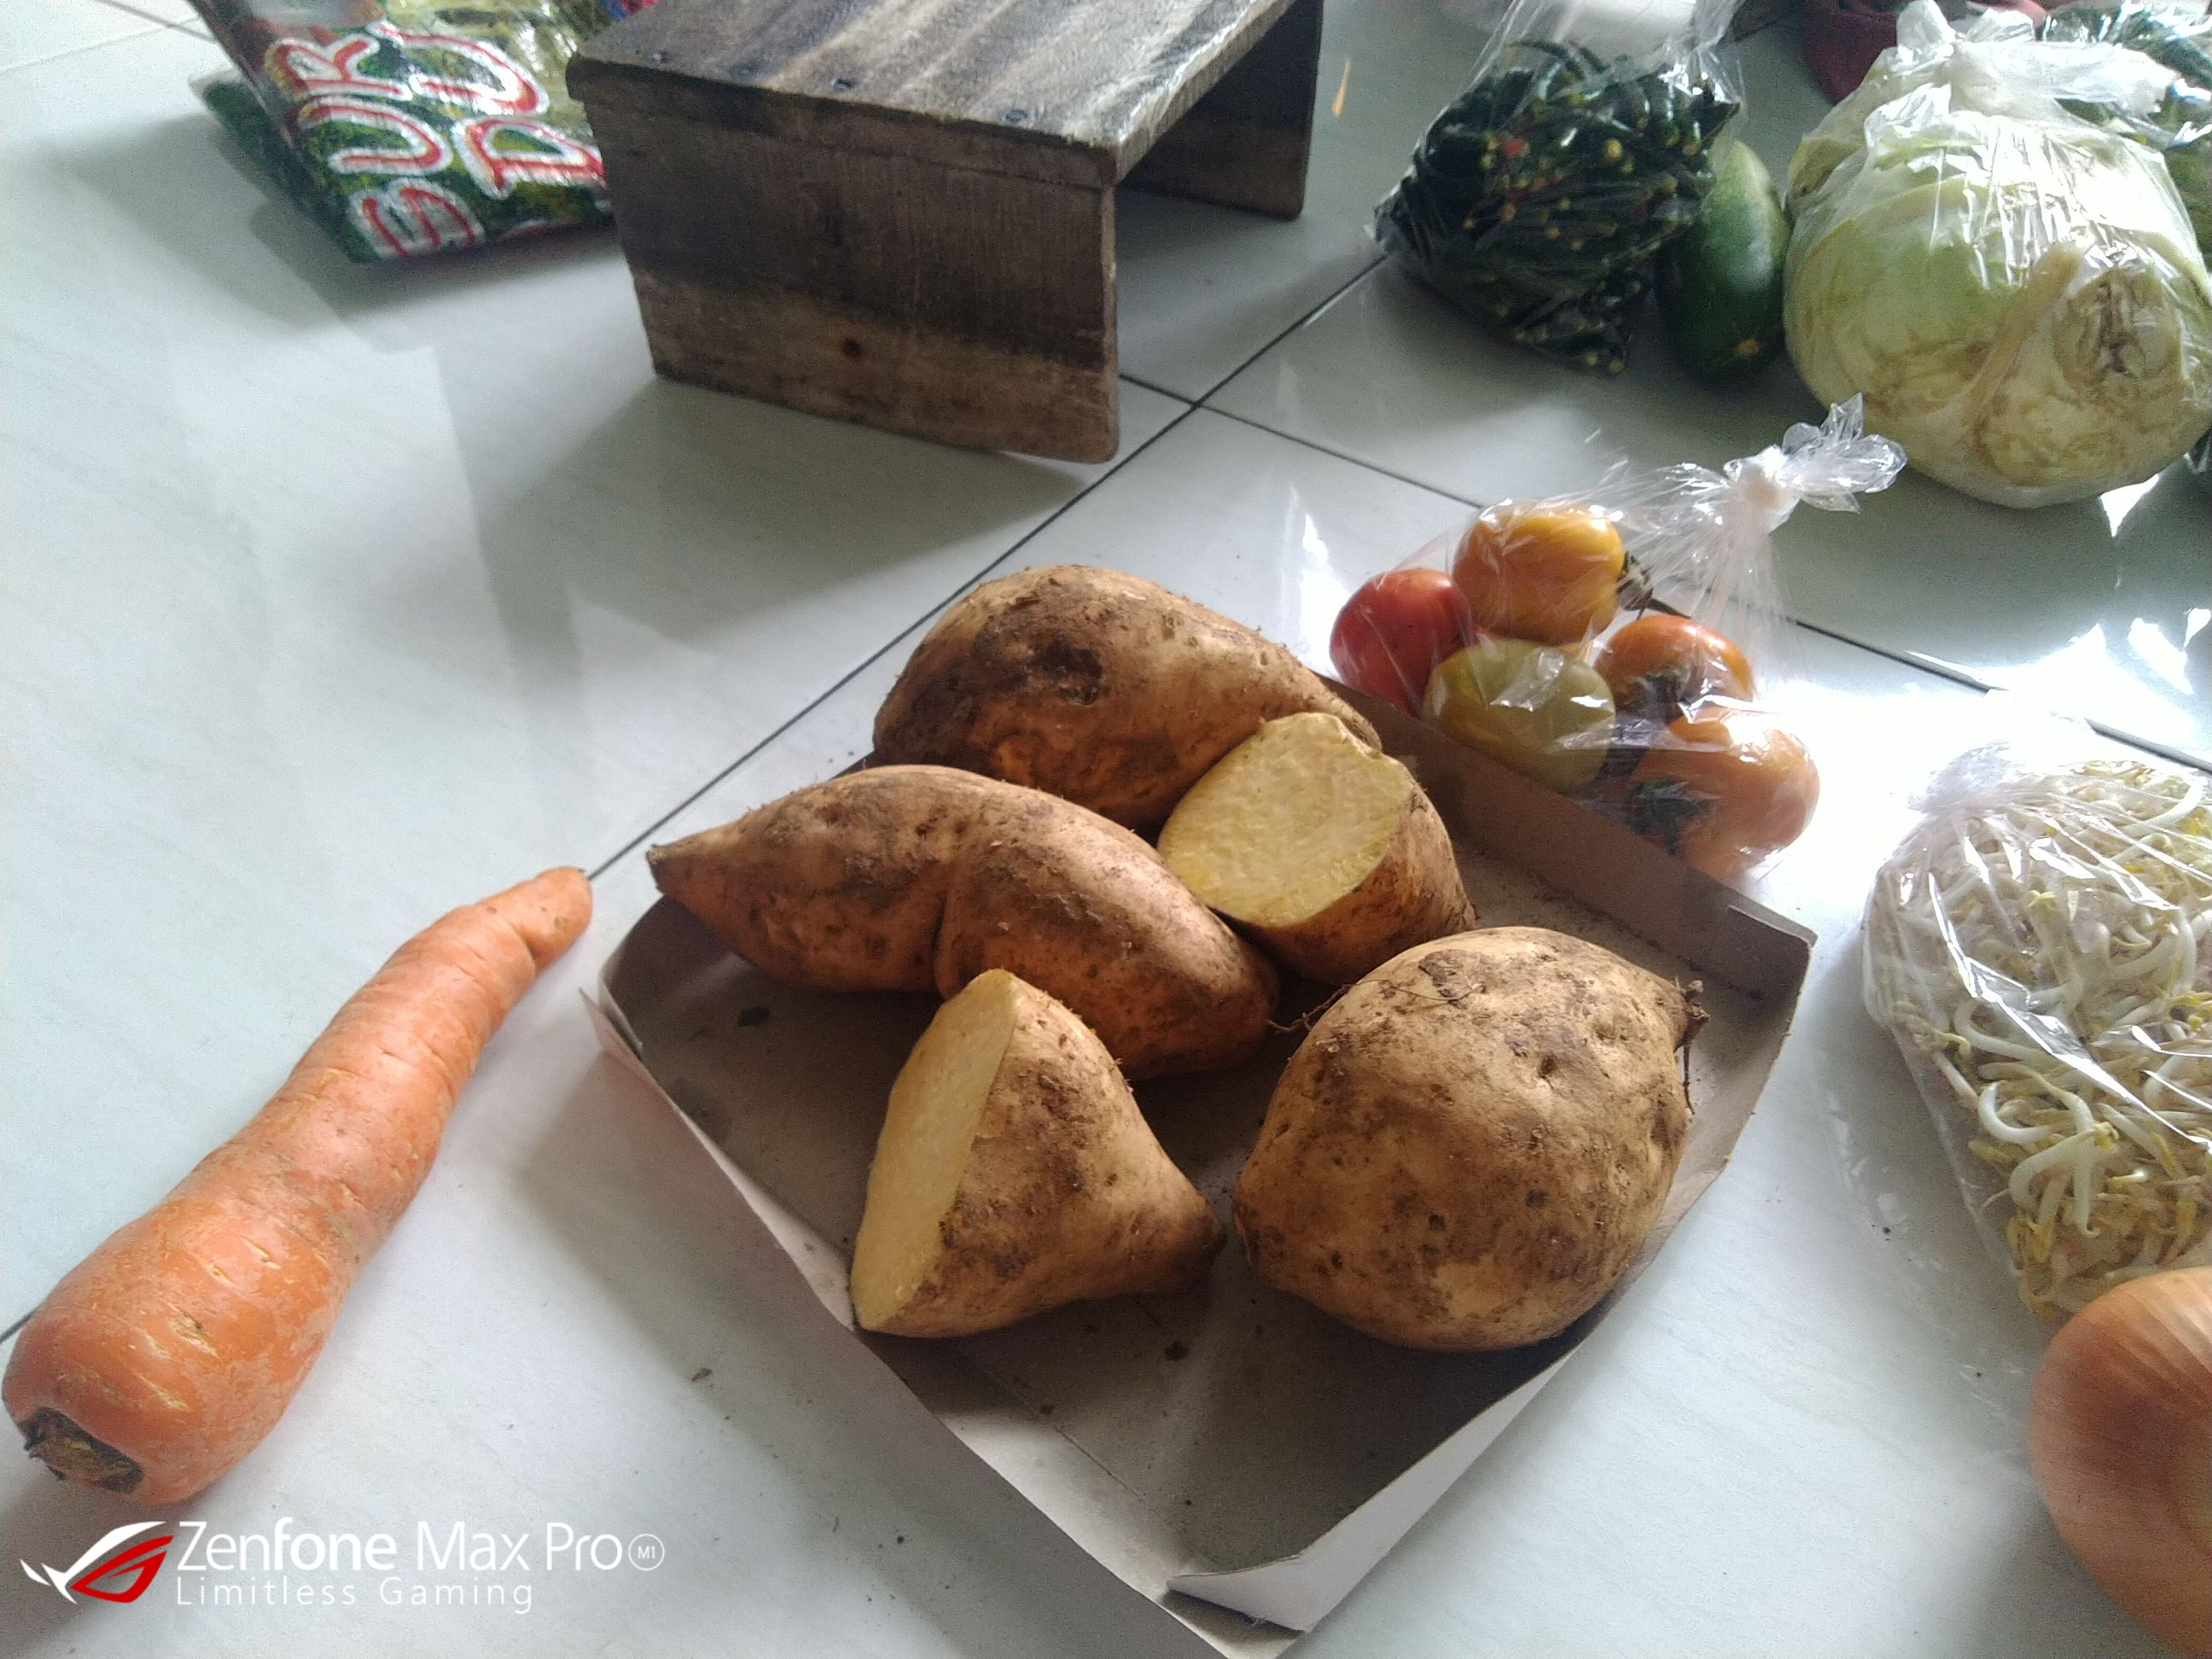ubi kuning: (637, 756, 1278, 1073), (1231, 955, 1707, 1361), (820, 965, 1205, 1352), (869, 552, 1390, 809), (1146, 711, 1475, 967)
